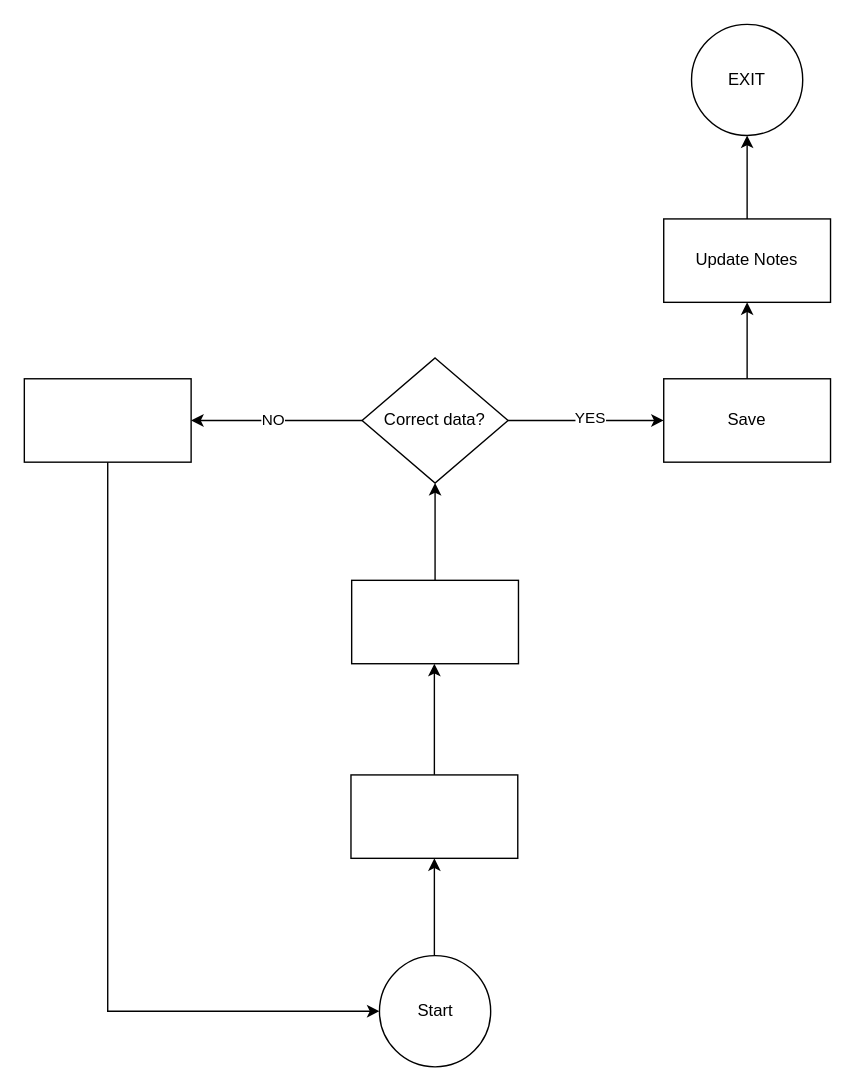
Some shapes in this 855 by 1091 pixel diagram are drawn without their labels. The centre of each missing label's shape, as x and y in pixels:
Error: point (107, 419)
New Note: point (434, 816)
Title and context: point (434, 621)
